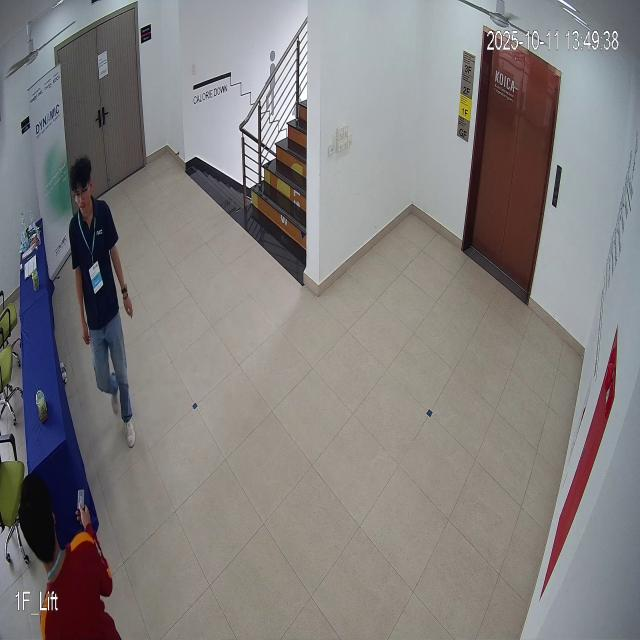face: (66, 146, 99, 221)
